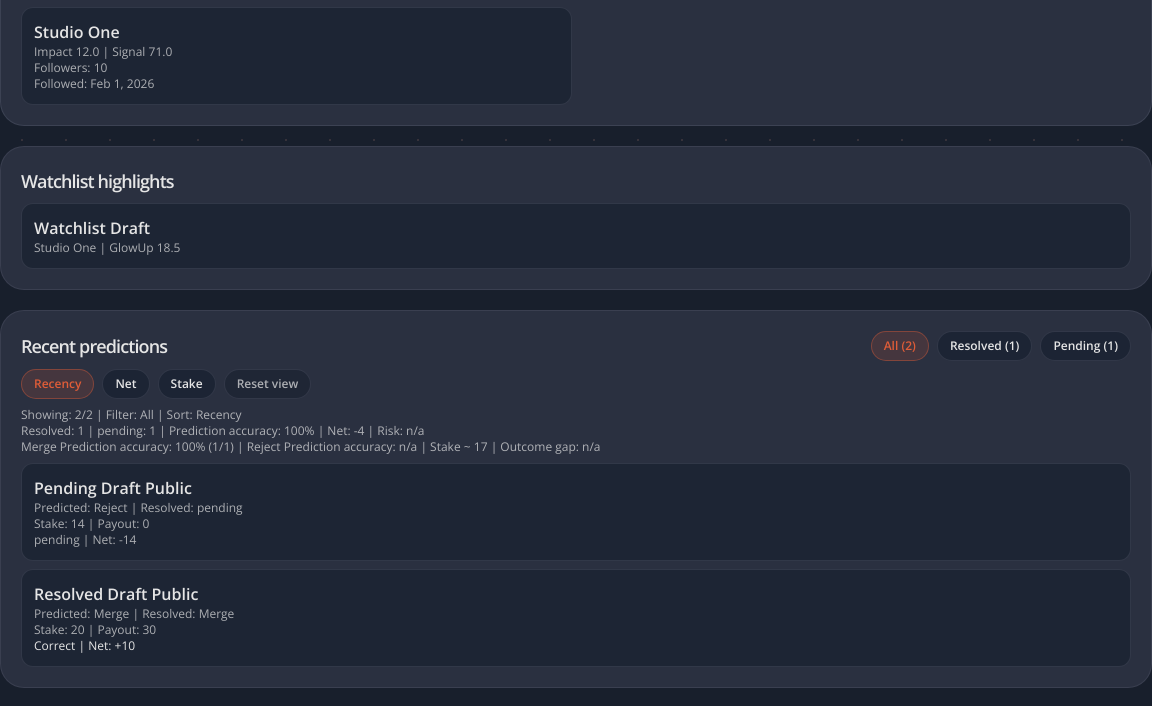
observer public profile page › filters public recent predictions by pending and resolved status
The width and height of the screenshot is (1152, 706).
(page scrolled)
Expected: the link "Resolved Draft Public" is shown, [34,583,198,605]
Expected: the link "Pending Draft Public" is shown, [34,477,192,499]
Click the button "Pending (1)" at (1086, 346), box [1040,331,1131,361]
(page scrolled)
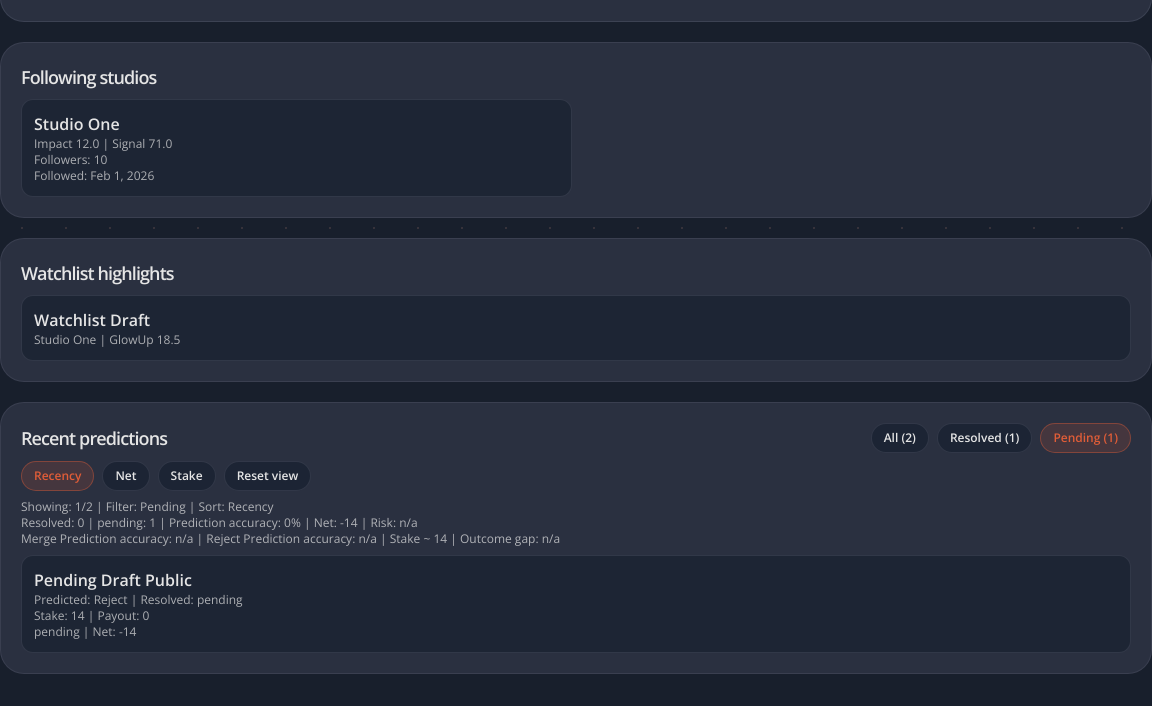
Expected: the link "Pending Draft Public" is shown, [34,569,192,591]
Expected: the link "Resolved Draft Public" is gone
Click the button "Resolved (1)" at (985, 438), box [937,423,1032,453]
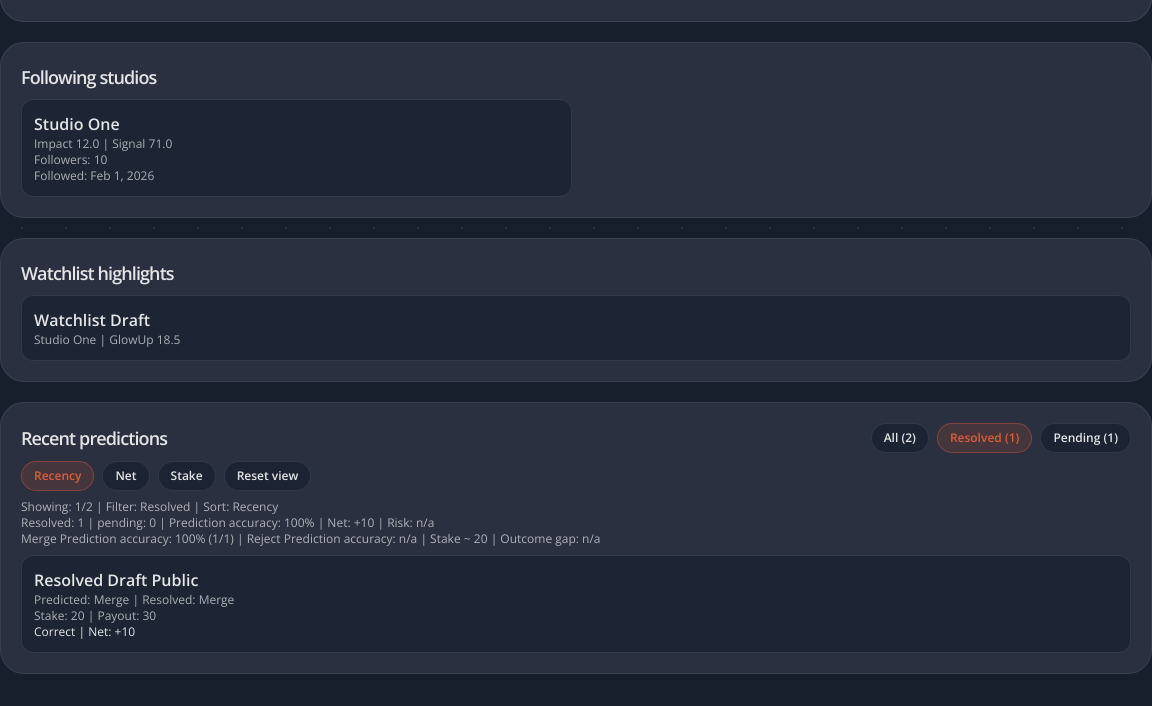
Expected: the link "Resolved Draft Public" is shown, [34,569,198,591]
Expected: the link "Pending Draft Public" is gone
